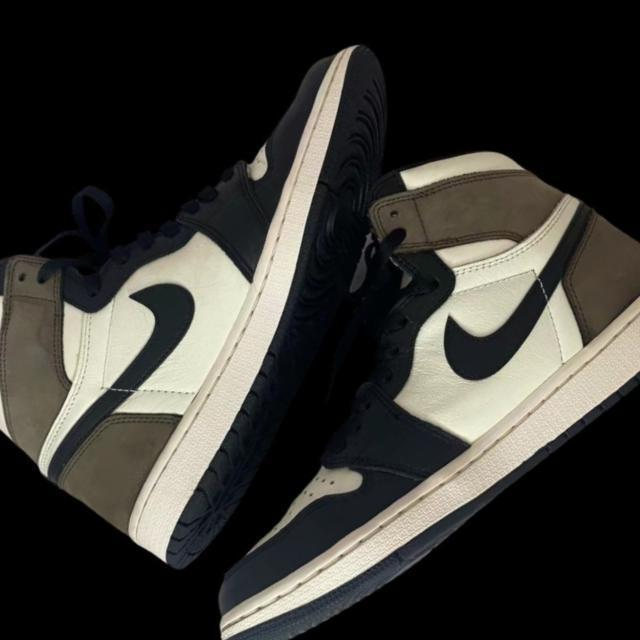nike original jordan 1: (55, 65, 640, 640), (0, 0, 555, 606)
